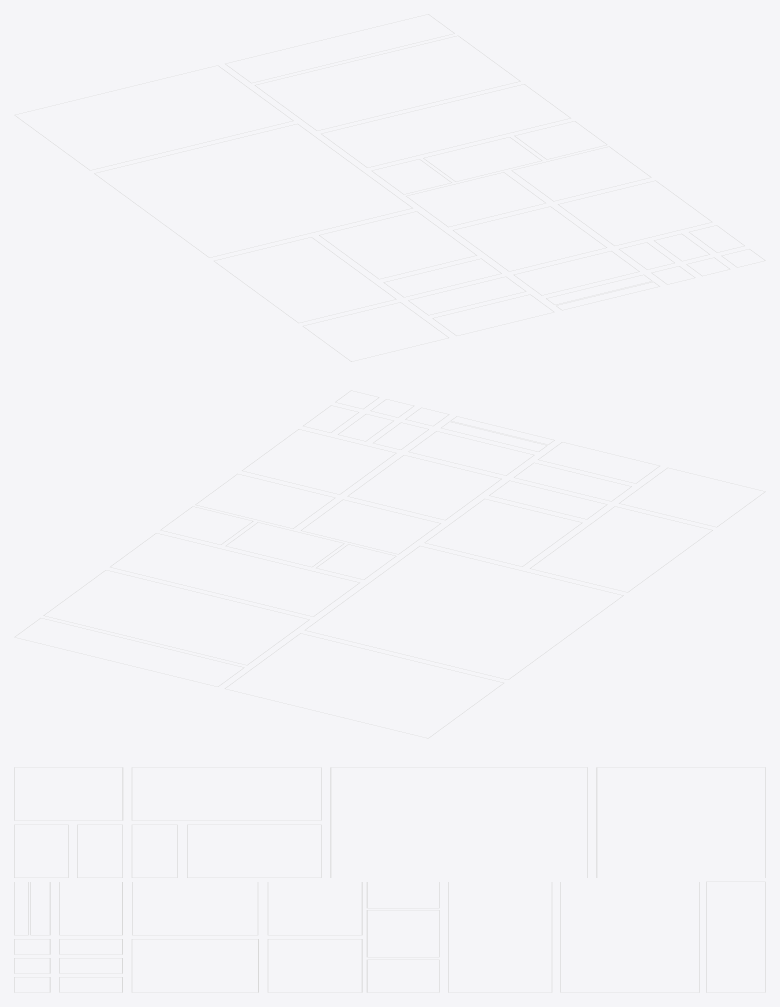
The model's file is frame.fbx.
3 renders of one model, top to bottom at view 1: azimuth 30°, elevation 25°; view 2: azimuth 150°, elevation 25°; view 3: azimuth 270°, elevation 25°, orthographic. The views are drawn at different scales.
Visible parts, largest first — view 1: frame; view 2: frame; view 3: frame.
Boxes of the visible parts, bbox=[...] form: frame: bbox=[14, 14, 765, 361]; frame: bbox=[14, 390, 765, 738]; frame: bbox=[14, 767, 765, 992].
Size of the model in its own units: 5904 by 8319 by 0.00268.
